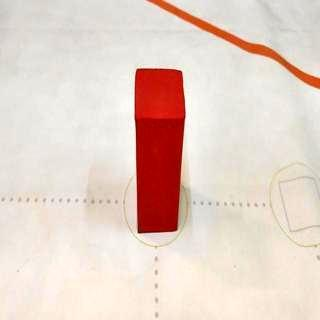redbox: (134, 66, 186, 232)
